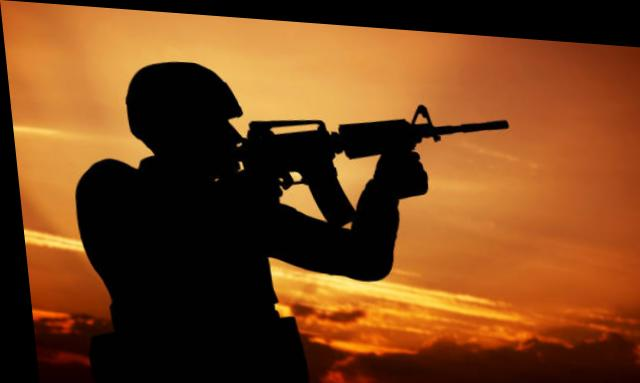other: (61, 62, 298, 382)
